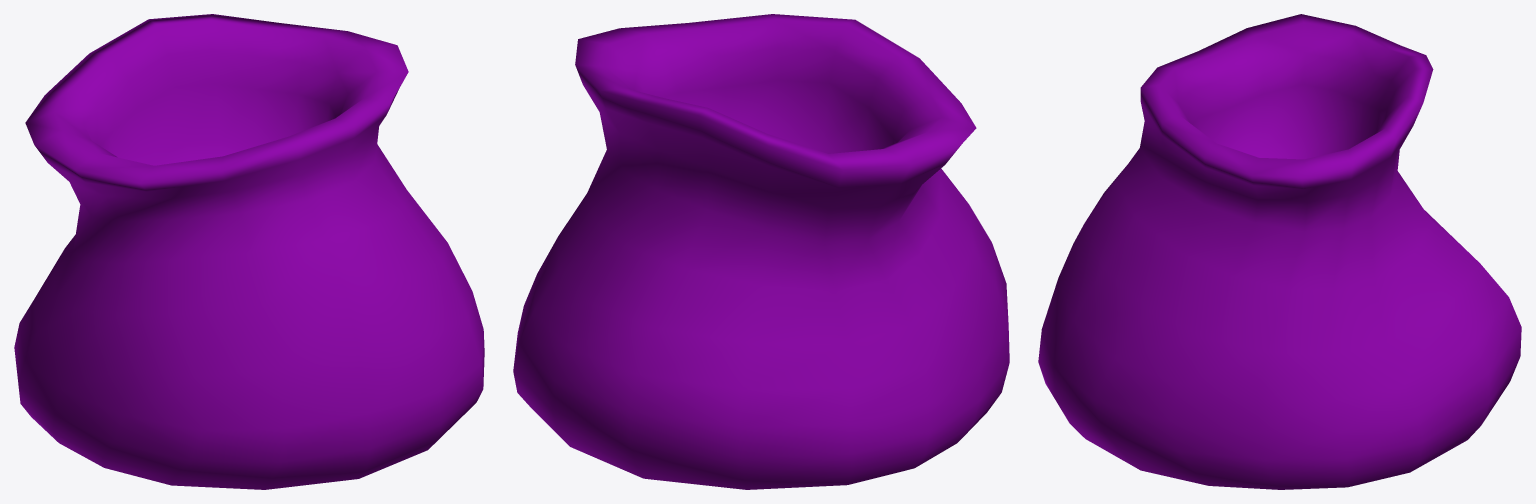
File: SM_Bags_02.fbx
3 renders of one model, left to right at view 1: azimuth 30°, elevation 25°; view 2: azimuth 150°, elevation 25°; view 3: azimuth 270°, elevation 25°, orthographic. The views are drawn at different scales.
Visible parts, largest first — view 1: Bags_02; view 2: Bags_02; view 3: Bags_02.
Boxes of the visible parts, box(x1,y1,x2,y2) form: Bags_02: box(14, 14, 484, 489); Bags_02: box(513, 14, 1009, 489); Bags_02: box(1038, 14, 1521, 489).
Bounding box in the file's own units: 101 × 78.78 × 107.
